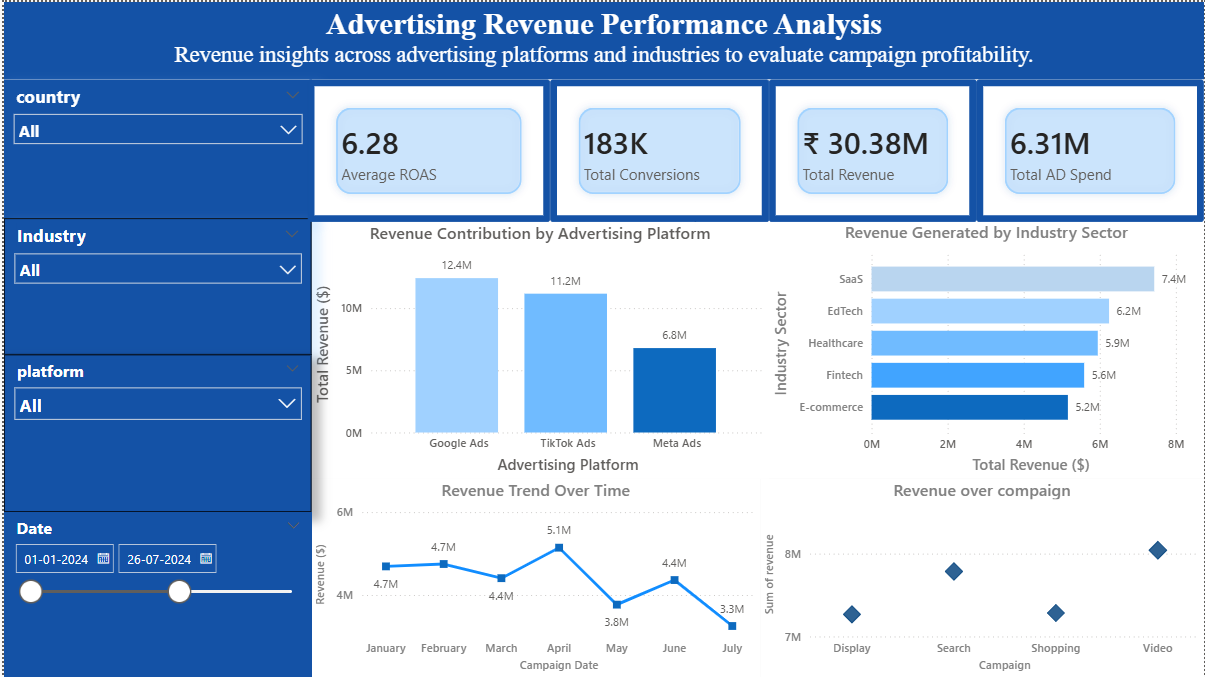

The page's visual inventory and layout, read from the dashboard file:
{"tool":"powerbi","page":{"name":"Revenue Analysis","canvas":[1280,720],"ordinal":1},"visuals":[{"type":"textbox","box":[0,0,1280,82.7],"z":0},{"type":"cardVisual","fields":{"Data":["Sum(global_ads_performance_dataset.ad_spend)"]},"box":[620,130.7,242.7,142.7],"z":1000},{"type":"clusteredColumnChart","title":"Revenue Contribution by Advertising Platform","fields":{"Category":["global_ads_performance_dataset.platform"],"Y":["Sum(global_ads_performance_dataset.revenue)"]},"box":[328,234.7,488,273.3],"z":2000},{"type":"clusteredBarChart","title":"Revenue Generated by Industry Sector","fields":{"Category":["global_ads_performance_dataset.industry"],"Y":["Sum(global_ads_performance_dataset.revenue)"]},"box":[816,233.3,464,274.7],"z":3000},{"type":"lineChart","title":"Revenue Trend Over Time","fields":{"Category":["global_ads_performance_dataset.date.Variation.Date Hierarchy.Month"],"Y":["Sum(global_ads_performance_dataset.revenue)"]},"box":[328,508,478.7,212],"z":4000},{"type":"scatterChart","title":"Revenue over compaign ","fields":{"X":["global_ads_performance_dataset.campaign_type"],"Y":["Sum(global_ads_performance_dataset.revenue)"],"Size":["Sum(global_ads_performance_dataset.conversions)"]},"box":[806.7,508,473.3,212],"z":5000},{"type":"slicer","fields":{"Values":["global_ads_performance_dataset.country"]},"box":[0,82.7,328,148],"z":6000},{"type":"slicer","fields":{"Values":["global_ads_performance_dataset.industry"]},"box":[0,230.7,328,145.3],"z":7000},{"type":"slicer","fields":{"Values":["global_ads_performance_dataset.platform"]},"box":[0,376,328,168],"z":8000},{"type":"slicer","fields":{"Values":["global_ads_performance_dataset.date"]},"box":[0,544,328,176],"z":9000},{"type":"cardVisual","fields":{"Data":["global_ads_performance_dataset.Average_ROAS"]},"box":[324,82.7,258.7,152],"z":10000},{"type":"cardVisual","fields":{"Data":["Sum(global_ads_performance_dataset.conversions)"]},"box":[582.7,82.7,233.3,152],"z":11000},{"type":"cardVisual","fields":{"Data":["Sum(global_ads_performance_dataset.revenue)"]},"box":[816,82.7,221.3,152],"z":12000},{"type":"cardVisual","fields":{"Data":["Sum(global_ads_performance_dataset.ad_spend)"]},"box":[1037.3,82.7,242.7,152],"z":13000}]}

Visuals, with their boxes in screenshot pixels (x1, y1, x2, y2), scaled from the page's 1280x720 canvas onto the 1205x677 screenshot:
textbox: crop(0, 0, 1204, 78)
cardVisual - Sum(global_ads_performance_dataset.ad_spend): crop(584, 123, 812, 257)
"Revenue Contribution by Advertising Platform" clusteredColumnChart: crop(309, 221, 768, 478)
"Revenue Generated by Industry Sector" clusteredBarChart: crop(768, 219, 1204, 478)
"Revenue Trend Over Time" lineChart: crop(309, 478, 759, 676)
"Revenue over compaign " scatterChart: crop(759, 478, 1204, 676)
slicer - global_ads_performance_dataset.country: crop(0, 78, 309, 217)
slicer - global_ads_performance_dataset.industry: crop(0, 217, 309, 354)
slicer - global_ads_performance_dataset.platform: crop(0, 354, 309, 512)
slicer - global_ads_performance_dataset.date: crop(0, 512, 309, 676)
cardVisual - global_ads_performance_dataset.Average_ROAS: crop(305, 78, 549, 221)
cardVisual - Sum(global_ads_performance_dataset.conversions): crop(549, 78, 768, 221)
cardVisual - Sum(global_ads_performance_dataset.revenue): crop(768, 78, 977, 221)
cardVisual - Sum(global_ads_performance_dataset.ad_spend): crop(977, 78, 1204, 221)
